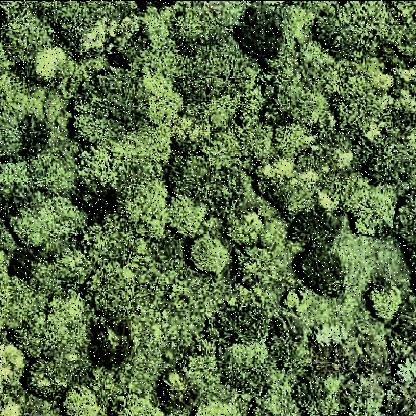tree-top: (67, 63, 151, 151), (314, 1, 402, 61), (230, 2, 292, 62), (7, 307, 69, 364), (293, 252, 353, 308), (84, 260, 148, 310), (350, 135, 410, 188), (86, 315, 141, 372), (287, 200, 347, 252), (326, 80, 382, 134), (185, 219, 233, 281), (208, 305, 272, 349), (166, 146, 216, 200), (361, 274, 407, 332), (157, 357, 201, 413), (26, 357, 76, 397), (76, 148, 130, 184), (74, 183, 120, 219), (394, 196, 416, 261), (20, 117, 54, 159), (62, 381, 102, 416), (8, 247, 36, 279), (390, 357, 416, 387)
